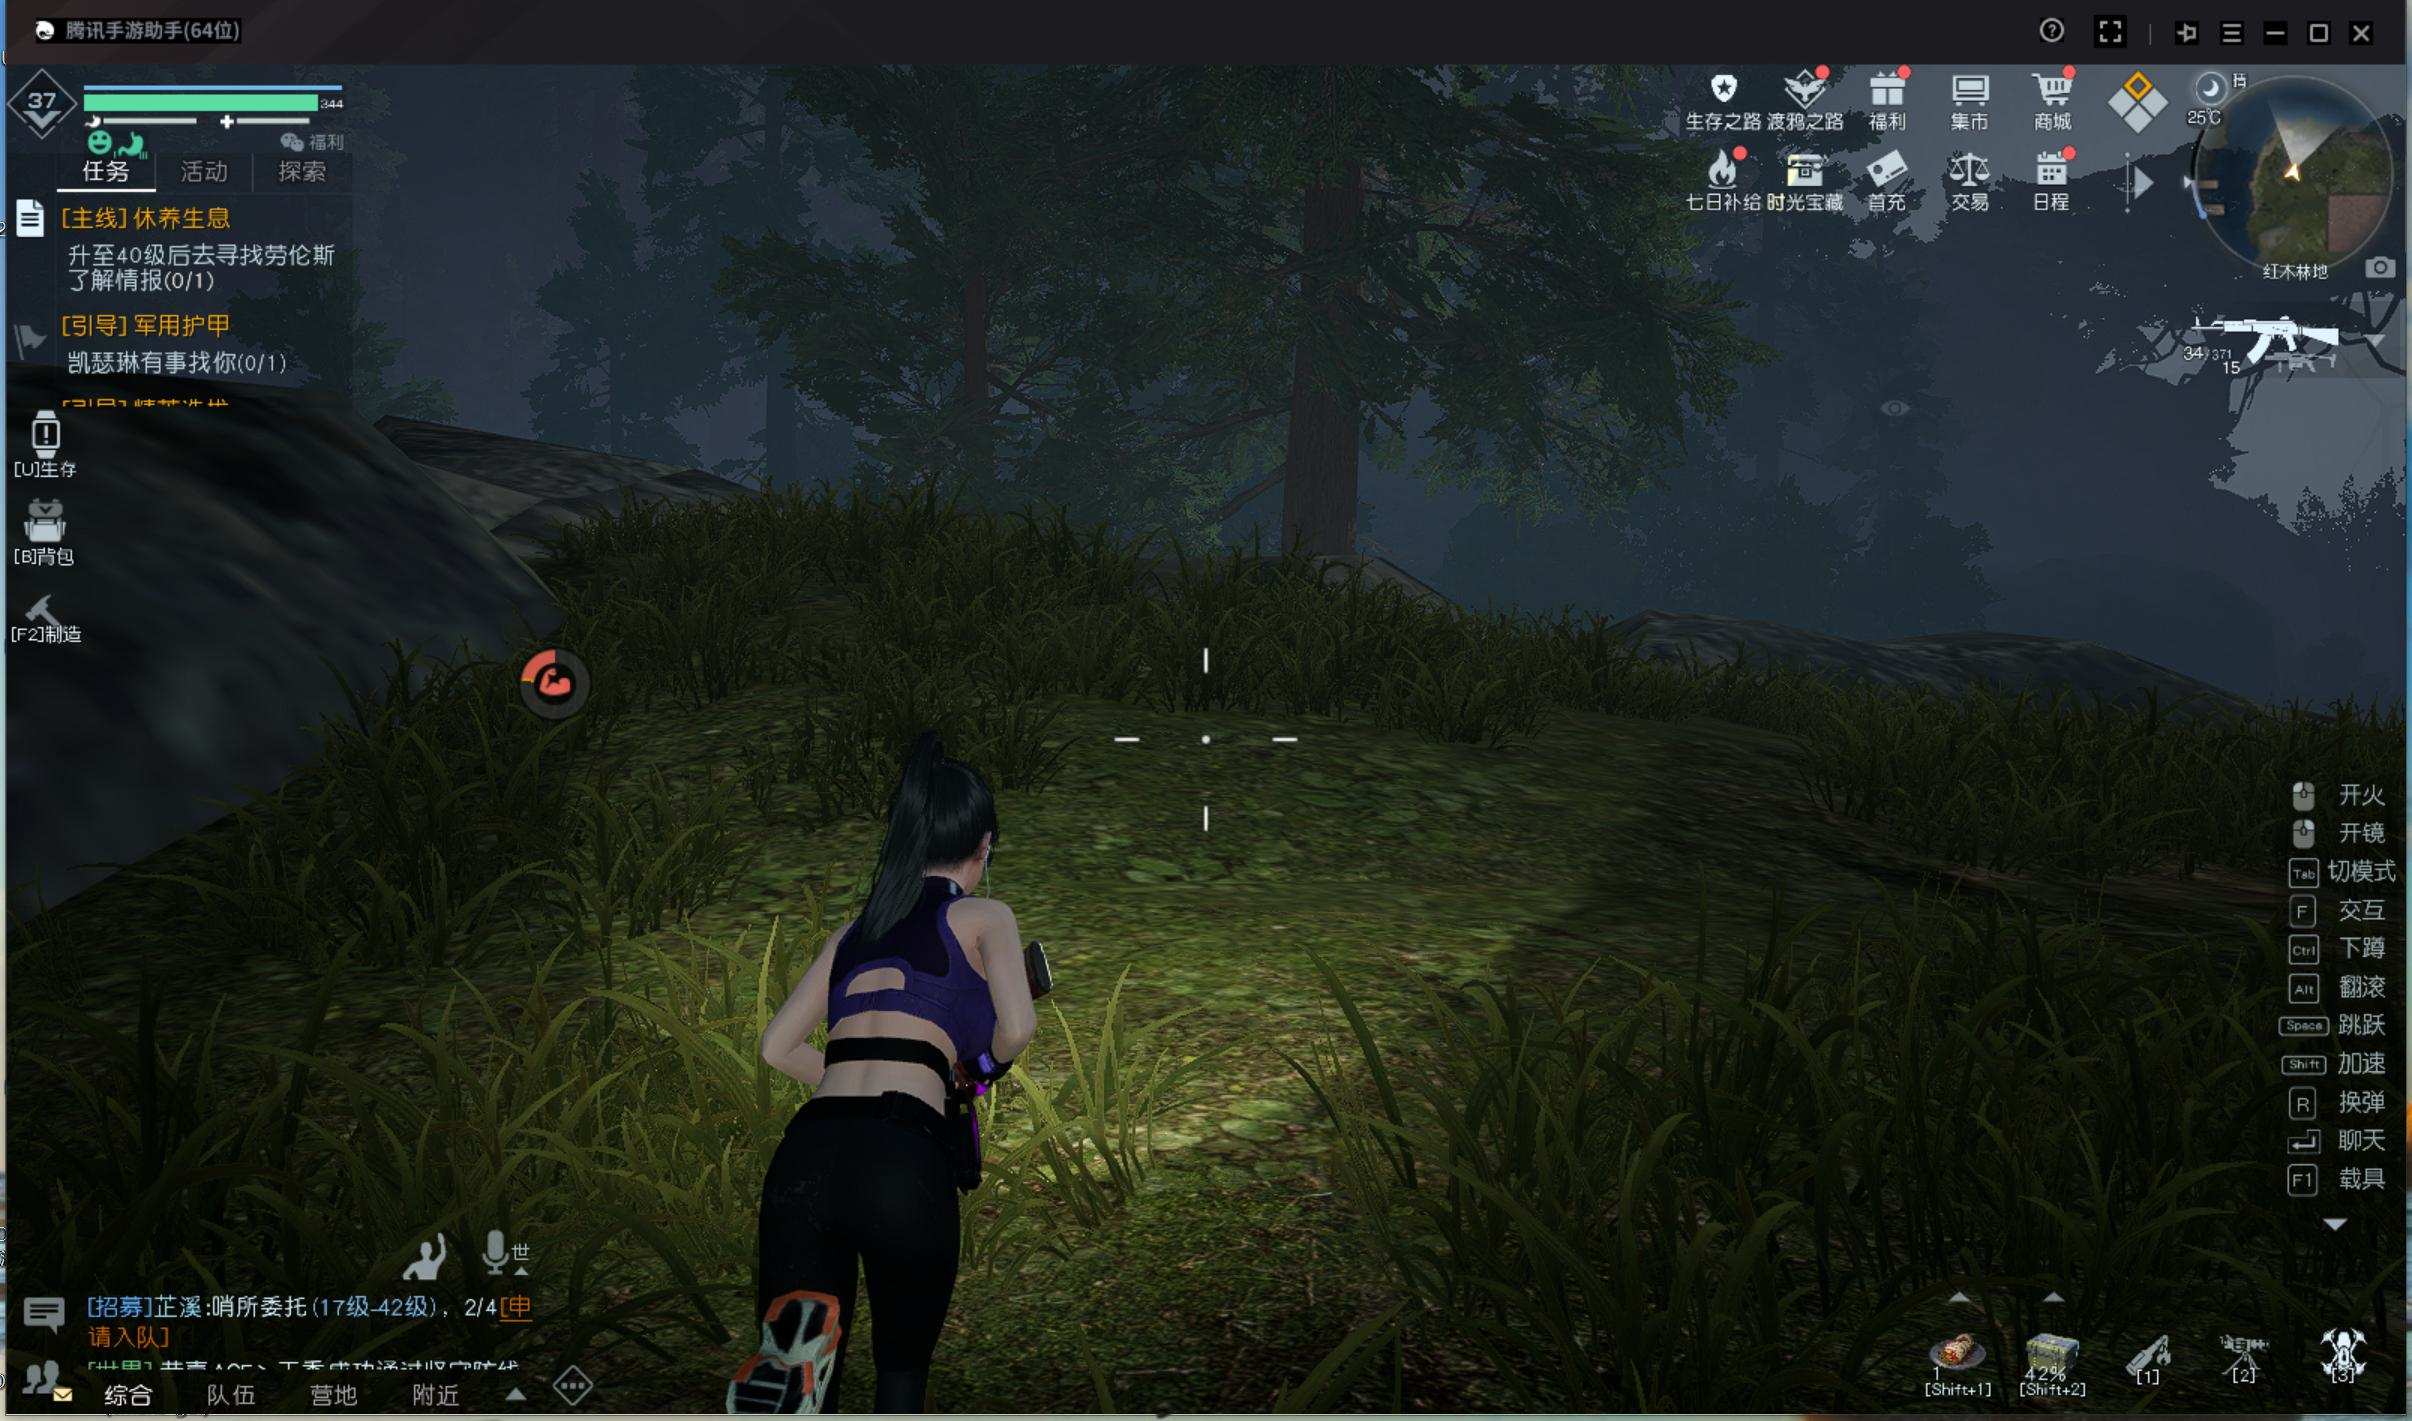tree: (1277, 242, 1365, 594)
